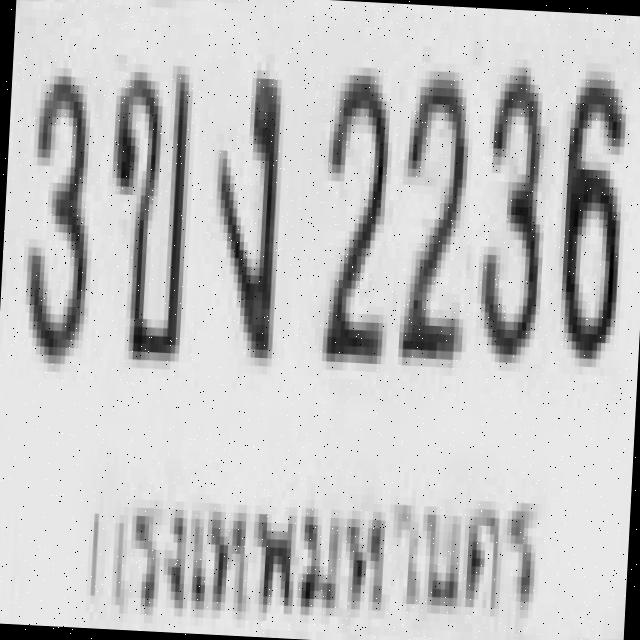11KhorKhai: (99, 59, 194, 358)
16NgorNgu: (205, 60, 282, 358)
2: (312, 61, 395, 360), (392, 66, 470, 356)
3: (19, 62, 97, 360), (474, 58, 548, 356)
6: (552, 62, 630, 360)
Bangkok: (73, 460, 556, 640)
